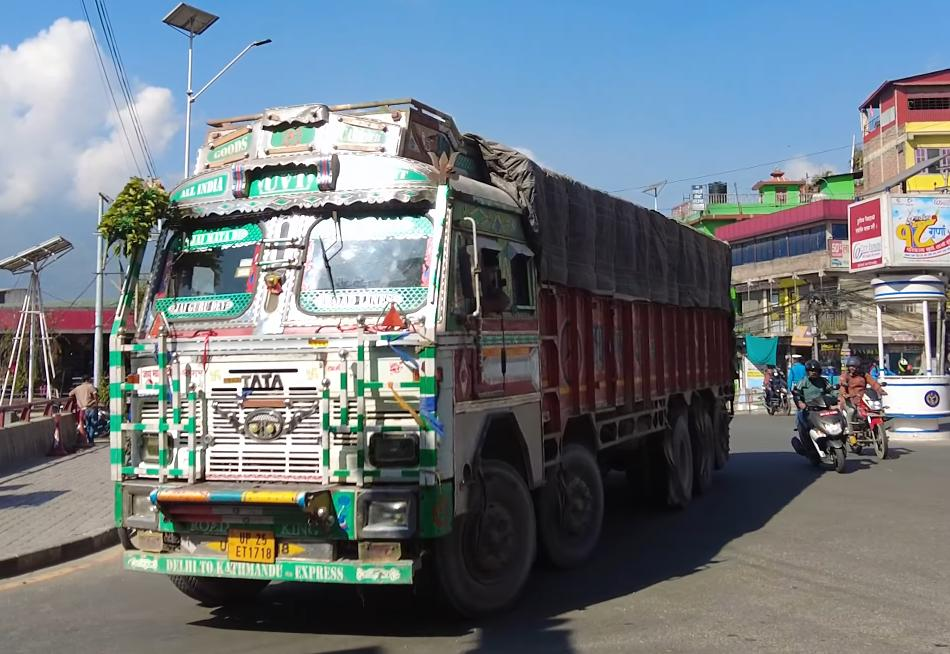bike: (848, 383, 894, 466)
scooter: (792, 391, 851, 473)
truck: (106, 96, 740, 618)
